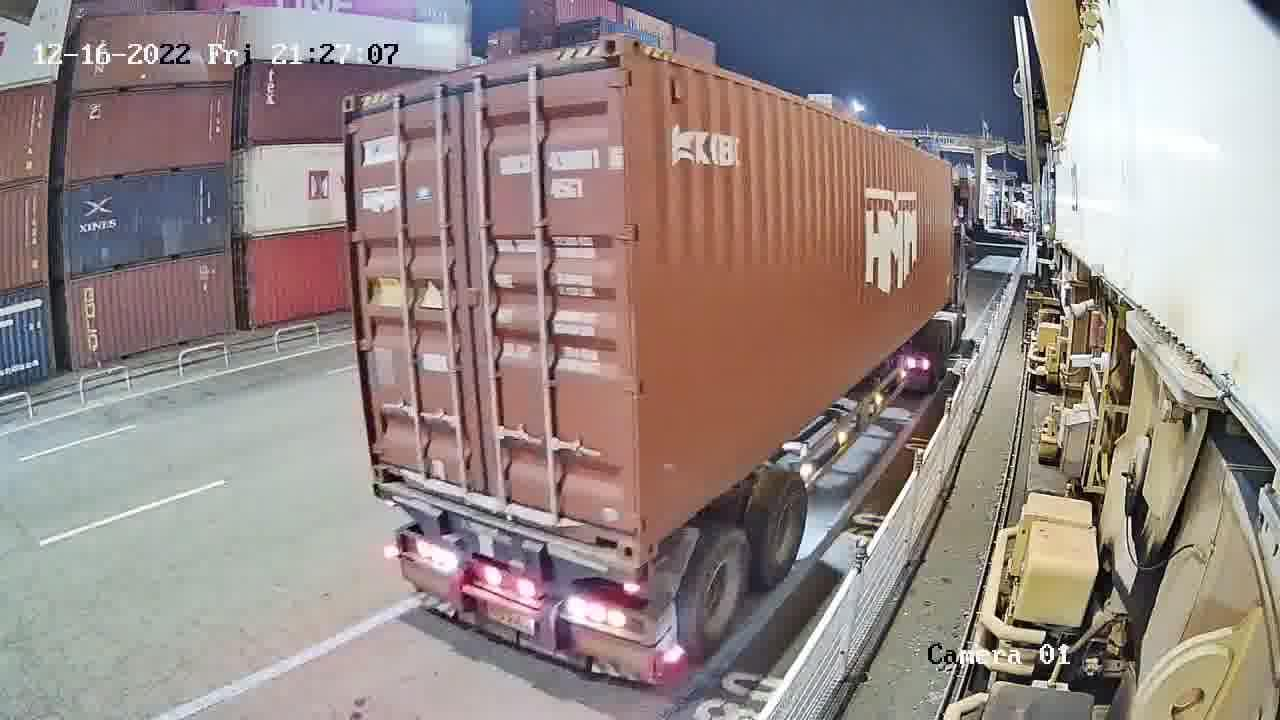Chassis: (373, 484, 641, 585)
Hole_L: (364, 436, 418, 497), (640, 493, 680, 571)
Hole_R: (593, 496, 643, 567)
Tire: (685, 540, 752, 653), (758, 475, 808, 579)
